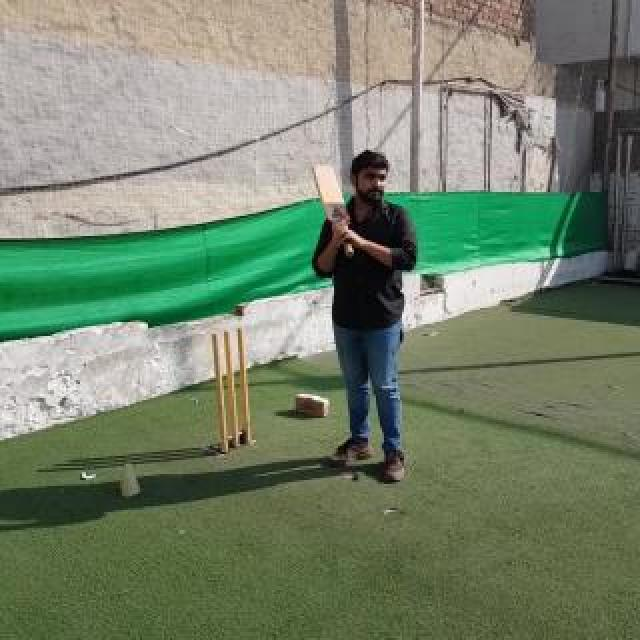bat: (314, 163, 354, 255)
